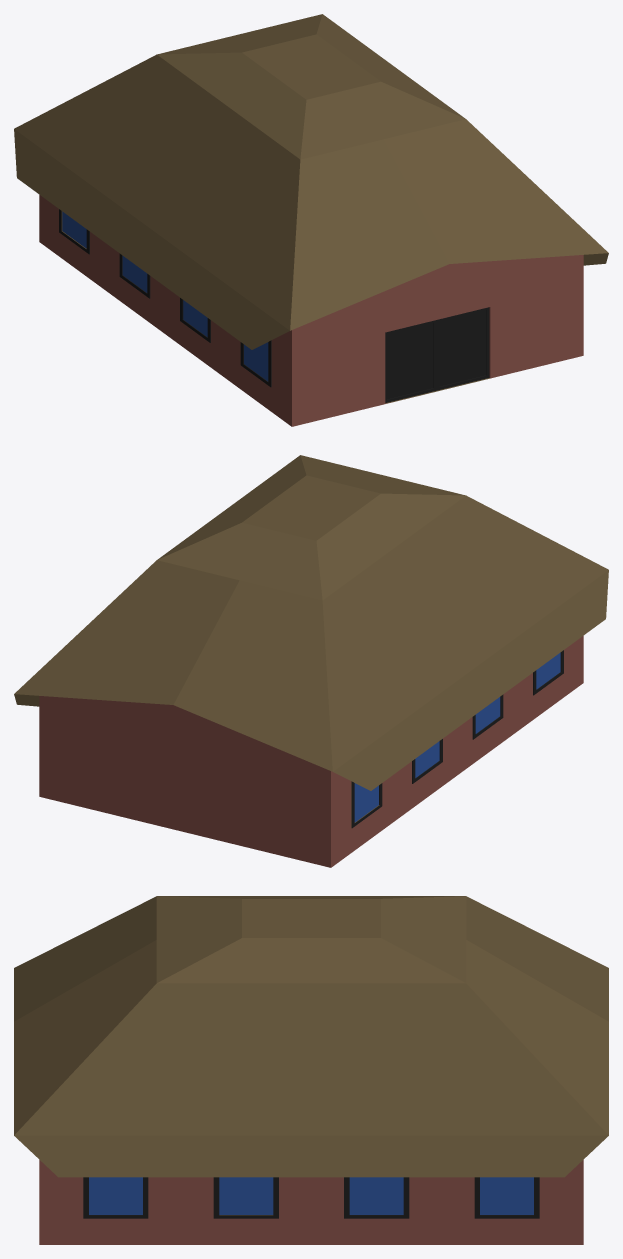
Rendered from boerderij.fbx.
The picture shows the model from 3 angles, top to bottom: view 1: azimuth 30°, elevation 25°; view 2: azimuth 150°, elevation 25°; view 3: azimuth 270°, elevation 25°; orthographic projection. The views are drawn at different scales.
Parts seen in each view (by area): view 1: Cube; view 2: Cube; view 3: Cube.
Part boxes in pixels (box(x1,y1,x2,y2)): Cube: box(14, 14, 608, 426); Cube: box(14, 455, 608, 867); Cube: box(14, 896, 608, 1244).
Size of the model in its own units: 1942 by 1214 by 2622.
